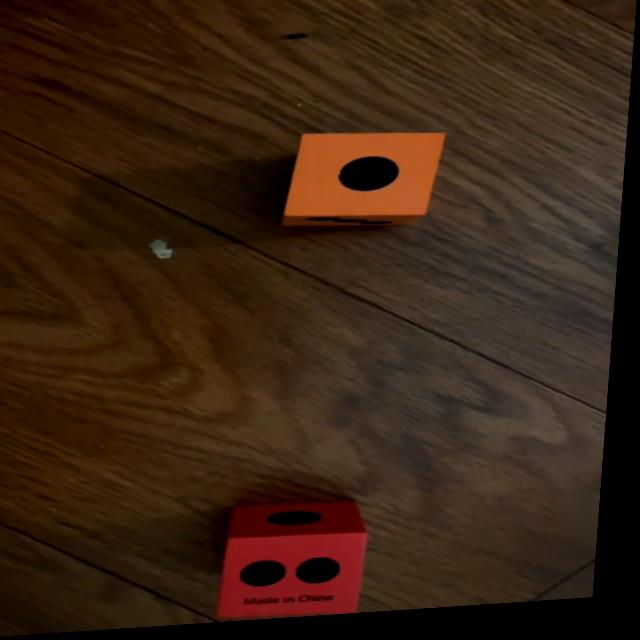red_block: (229, 501, 380, 626)
